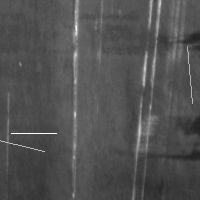scratches: (130, 1, 161, 198), (63, 1, 83, 197), (137, 141, 200, 164), (145, 28, 200, 51), (0, 133, 49, 156), (182, 41, 197, 108), (163, 116, 200, 137), (6, 128, 61, 138)
